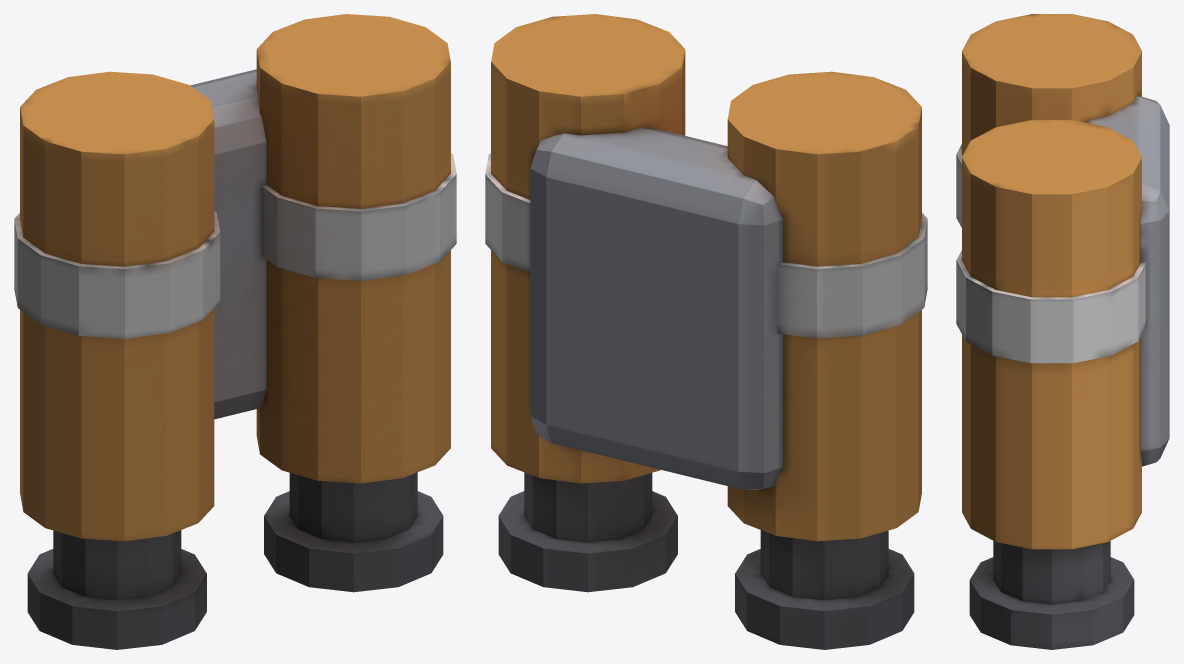
File: jetpack.glb
3 renders of one model, left to right at view 1: azimuth 30°, elevation 25°; view 2: azimuth 150°, elevation 25°; view 3: azimuth 270°, elevation 25°, orthographic. The views are drawn at different scales.
Visible parts, largest first — view 1: jetpack; view 2: jetpack; view 3: jetpack.
Part boxes in pixels (<box>): jetpack: <box>14,14,456,649</box>; jetpack: <box>485,14,927,649</box>; jetpack: <box>956,14,1169,649</box>.
Size of the model in its own units: 0.5579 by 0.645 by 0.272.
Materials: 4 (4 with a texture image).
